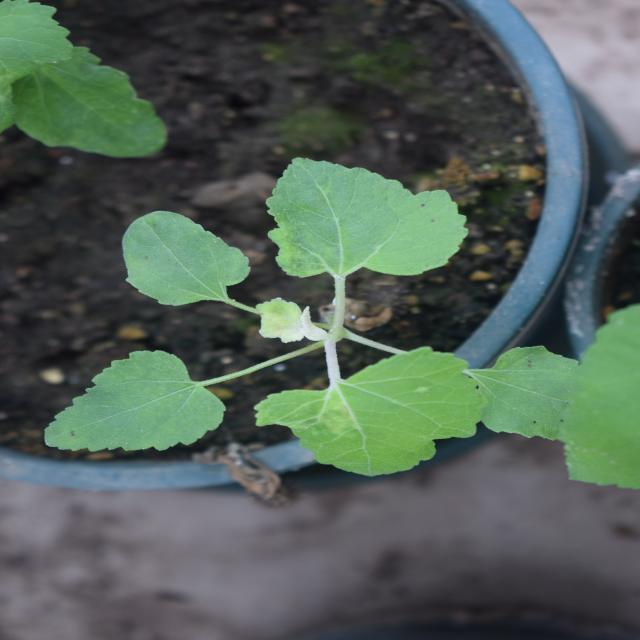cocklebur: (140, 50, 476, 518)
